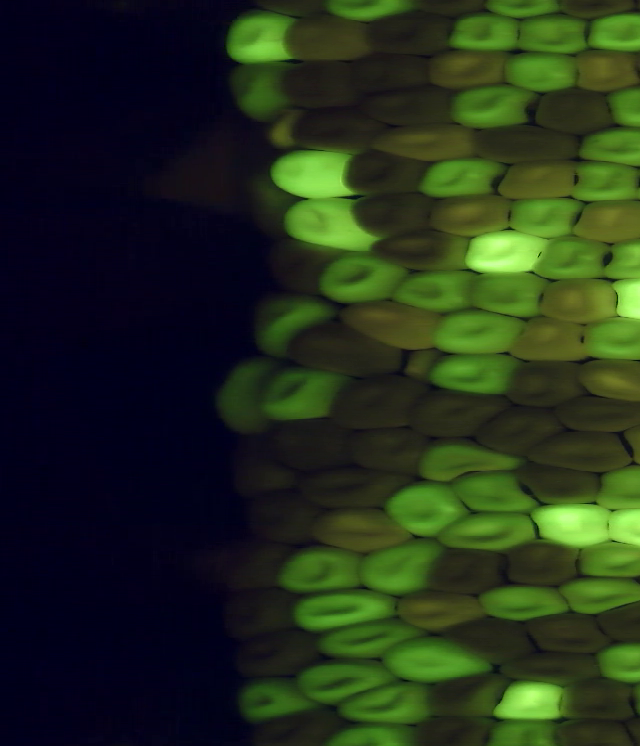fluorescent: (252, 359, 362, 427), (207, 351, 290, 440), (242, 289, 340, 363), (375, 632, 505, 686), (413, 432, 534, 487), (291, 654, 411, 709), (312, 249, 420, 310), (276, 194, 384, 254), (352, 534, 444, 602), (269, 541, 375, 599), (265, 145, 364, 207), (425, 305, 534, 361), (286, 584, 407, 634), (385, 479, 474, 545), (429, 505, 546, 555), (315, 613, 434, 662), (222, 671, 322, 729), (425, 346, 525, 401), (333, 676, 442, 726), (220, 7, 305, 69), (223, 56, 301, 122), (383, 262, 482, 314), (525, 499, 615, 556), (449, 466, 544, 519), (465, 268, 556, 322), (445, 80, 541, 130), (461, 227, 554, 278), (477, 581, 574, 628), (498, 47, 585, 99), (414, 155, 510, 202), (530, 229, 618, 280), (557, 569, 640, 621), (509, 194, 594, 239), (444, 11, 527, 56), (307, 715, 425, 746), (513, 11, 594, 56), (568, 158, 640, 208), (493, 676, 571, 722), (575, 536, 640, 584), (592, 457, 640, 519), (580, 122, 640, 170), (478, 713, 564, 746), (581, 315, 640, 363), (583, 9, 640, 56), (316, 1, 420, 26), (592, 636, 640, 690), (601, 81, 640, 133), (600, 234, 640, 284), (603, 503, 640, 554), (606, 271, 640, 326), (478, 1, 563, 22)
nonfluorescent: (284, 319, 412, 384), (324, 370, 435, 430), (405, 385, 517, 443), (300, 503, 418, 558), (334, 294, 445, 351), (257, 412, 361, 472), (259, 232, 343, 304), (295, 464, 418, 512), (235, 624, 327, 688), (238, 700, 366, 746), (220, 429, 302, 498), (414, 667, 516, 722), (521, 428, 638, 475), (239, 483, 324, 547), (364, 223, 468, 275), (466, 121, 581, 167), (365, 119, 480, 165), (281, 10, 375, 66), (471, 405, 568, 459), (424, 540, 508, 602), (338, 144, 432, 199), (286, 104, 387, 155), (219, 529, 295, 596), (532, 274, 624, 329), (345, 422, 435, 478), (356, 84, 458, 133), (499, 357, 588, 413), (441, 613, 535, 666), (277, 54, 363, 111), (520, 608, 618, 658), (211, 582, 298, 637), (510, 458, 607, 507), (529, 84, 615, 139), (365, 7, 455, 59), (505, 311, 588, 367), (393, 587, 490, 634), (499, 534, 581, 589), (551, 673, 640, 723), (427, 190, 517, 239), (498, 648, 605, 689), (551, 389, 640, 437), (350, 190, 432, 242), (423, 44, 515, 90), (351, 49, 431, 97), (495, 158, 579, 203), (569, 355, 640, 408), (569, 45, 640, 95), (570, 198, 640, 248), (405, 712, 500, 746), (546, 714, 640, 746), (594, 591, 640, 650)
